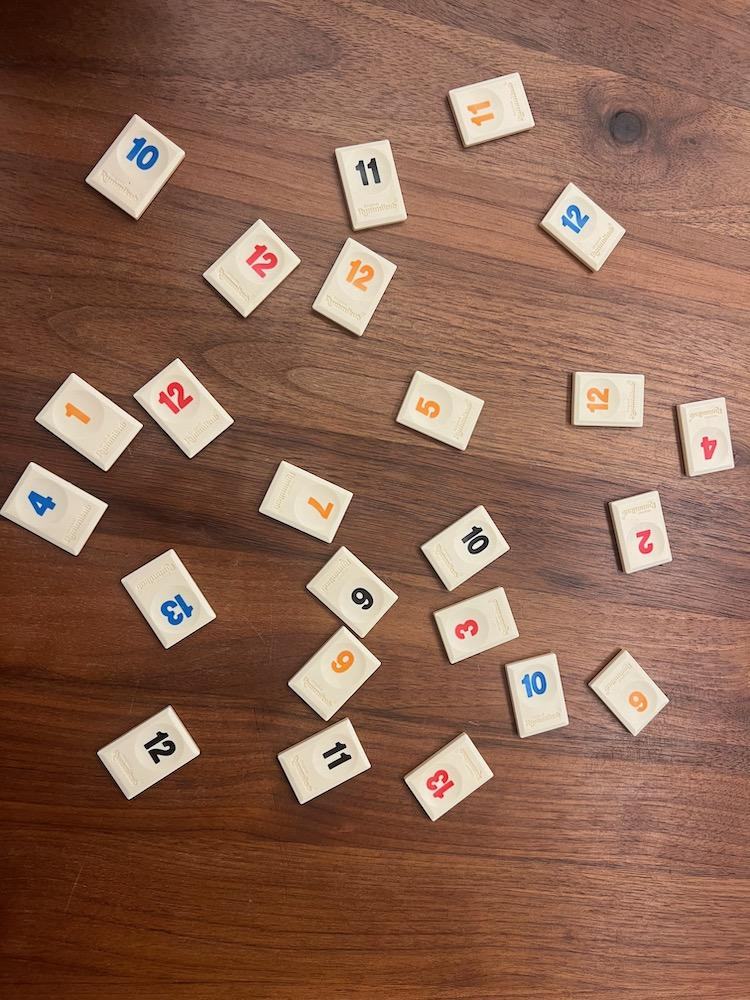black_10: (422, 506, 510, 590)
black_11: (277, 719, 369, 805), (336, 141, 406, 229)
black_12: (99, 705, 199, 799)
black_6: (307, 547, 396, 637)
blue_10: (87, 115, 186, 219), (507, 652, 568, 737)
blue_12: (541, 184, 625, 271)
blue_13: (121, 549, 215, 648)
orange_1: (35, 373, 143, 471)
orange_11: (449, 72, 535, 146)
orange_12: (312, 238, 396, 336), (574, 371, 644, 426)
orange_5: (396, 371, 482, 449)
orange_6: (590, 650, 668, 736)
orange_7: (260, 461, 352, 543)
orange_9: (289, 627, 381, 721)
red_12: (135, 359, 232, 457), (203, 221, 299, 316)
red_13: (404, 732, 492, 820)
red_2: (610, 490, 672, 574)
red_3: (434, 588, 520, 664)
red_4: (678, 396, 733, 477)
